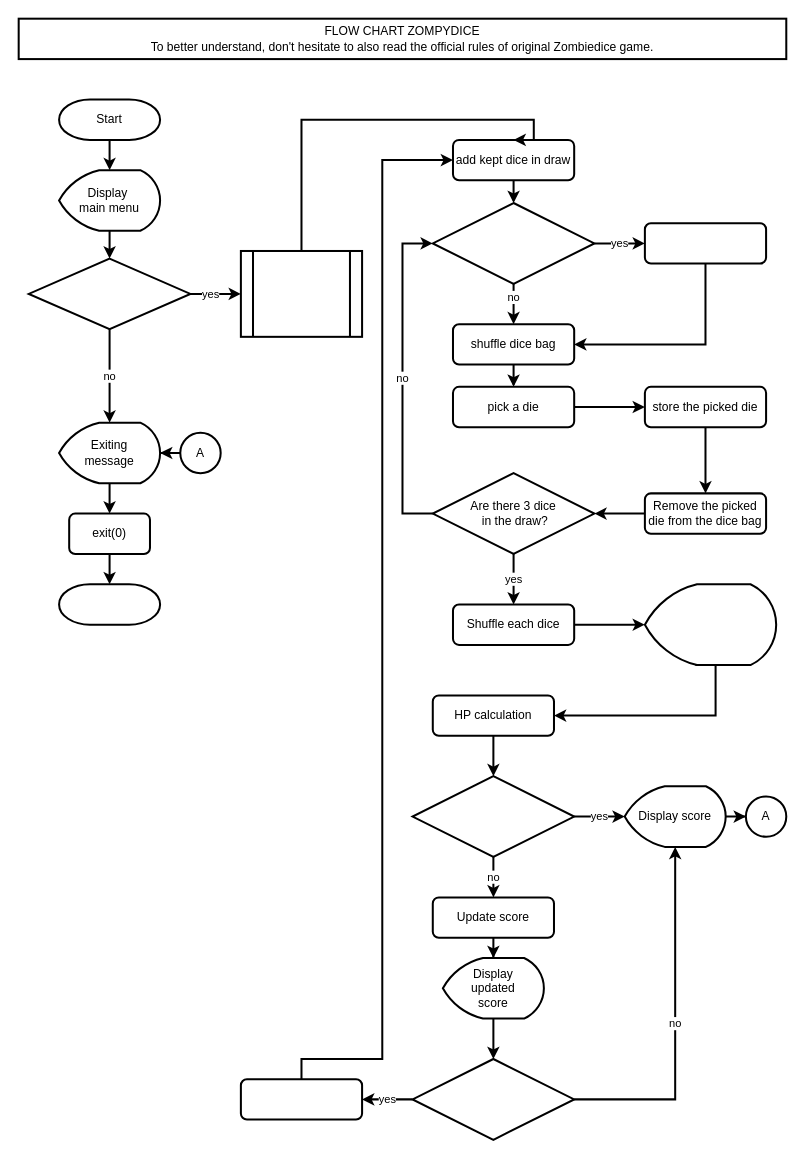
Image size: 804x1157. Some labels were removed from this diagram. Each missing label, with the box of its shape:
(re)generate dice bag: (643, 222, 767, 264)
Display the picked dice and the result of each die.: (643, 583, 777, 666)
Do you want to play ?: (27, 257, 191, 330)
End: (58, 583, 161, 625)
Initialisation hp = 3 score = 0 keep_dice = [] dice_bag = []: (239, 249, 363, 337)
Is HP = 0 ? aka the player is dead.: (411, 775, 575, 857)
Is the dice bag is empty ?: (431, 201, 595, 284)
Keep 'step' dice: (239, 1078, 363, 1120)
Play again ?: (411, 1057, 575, 1140)
